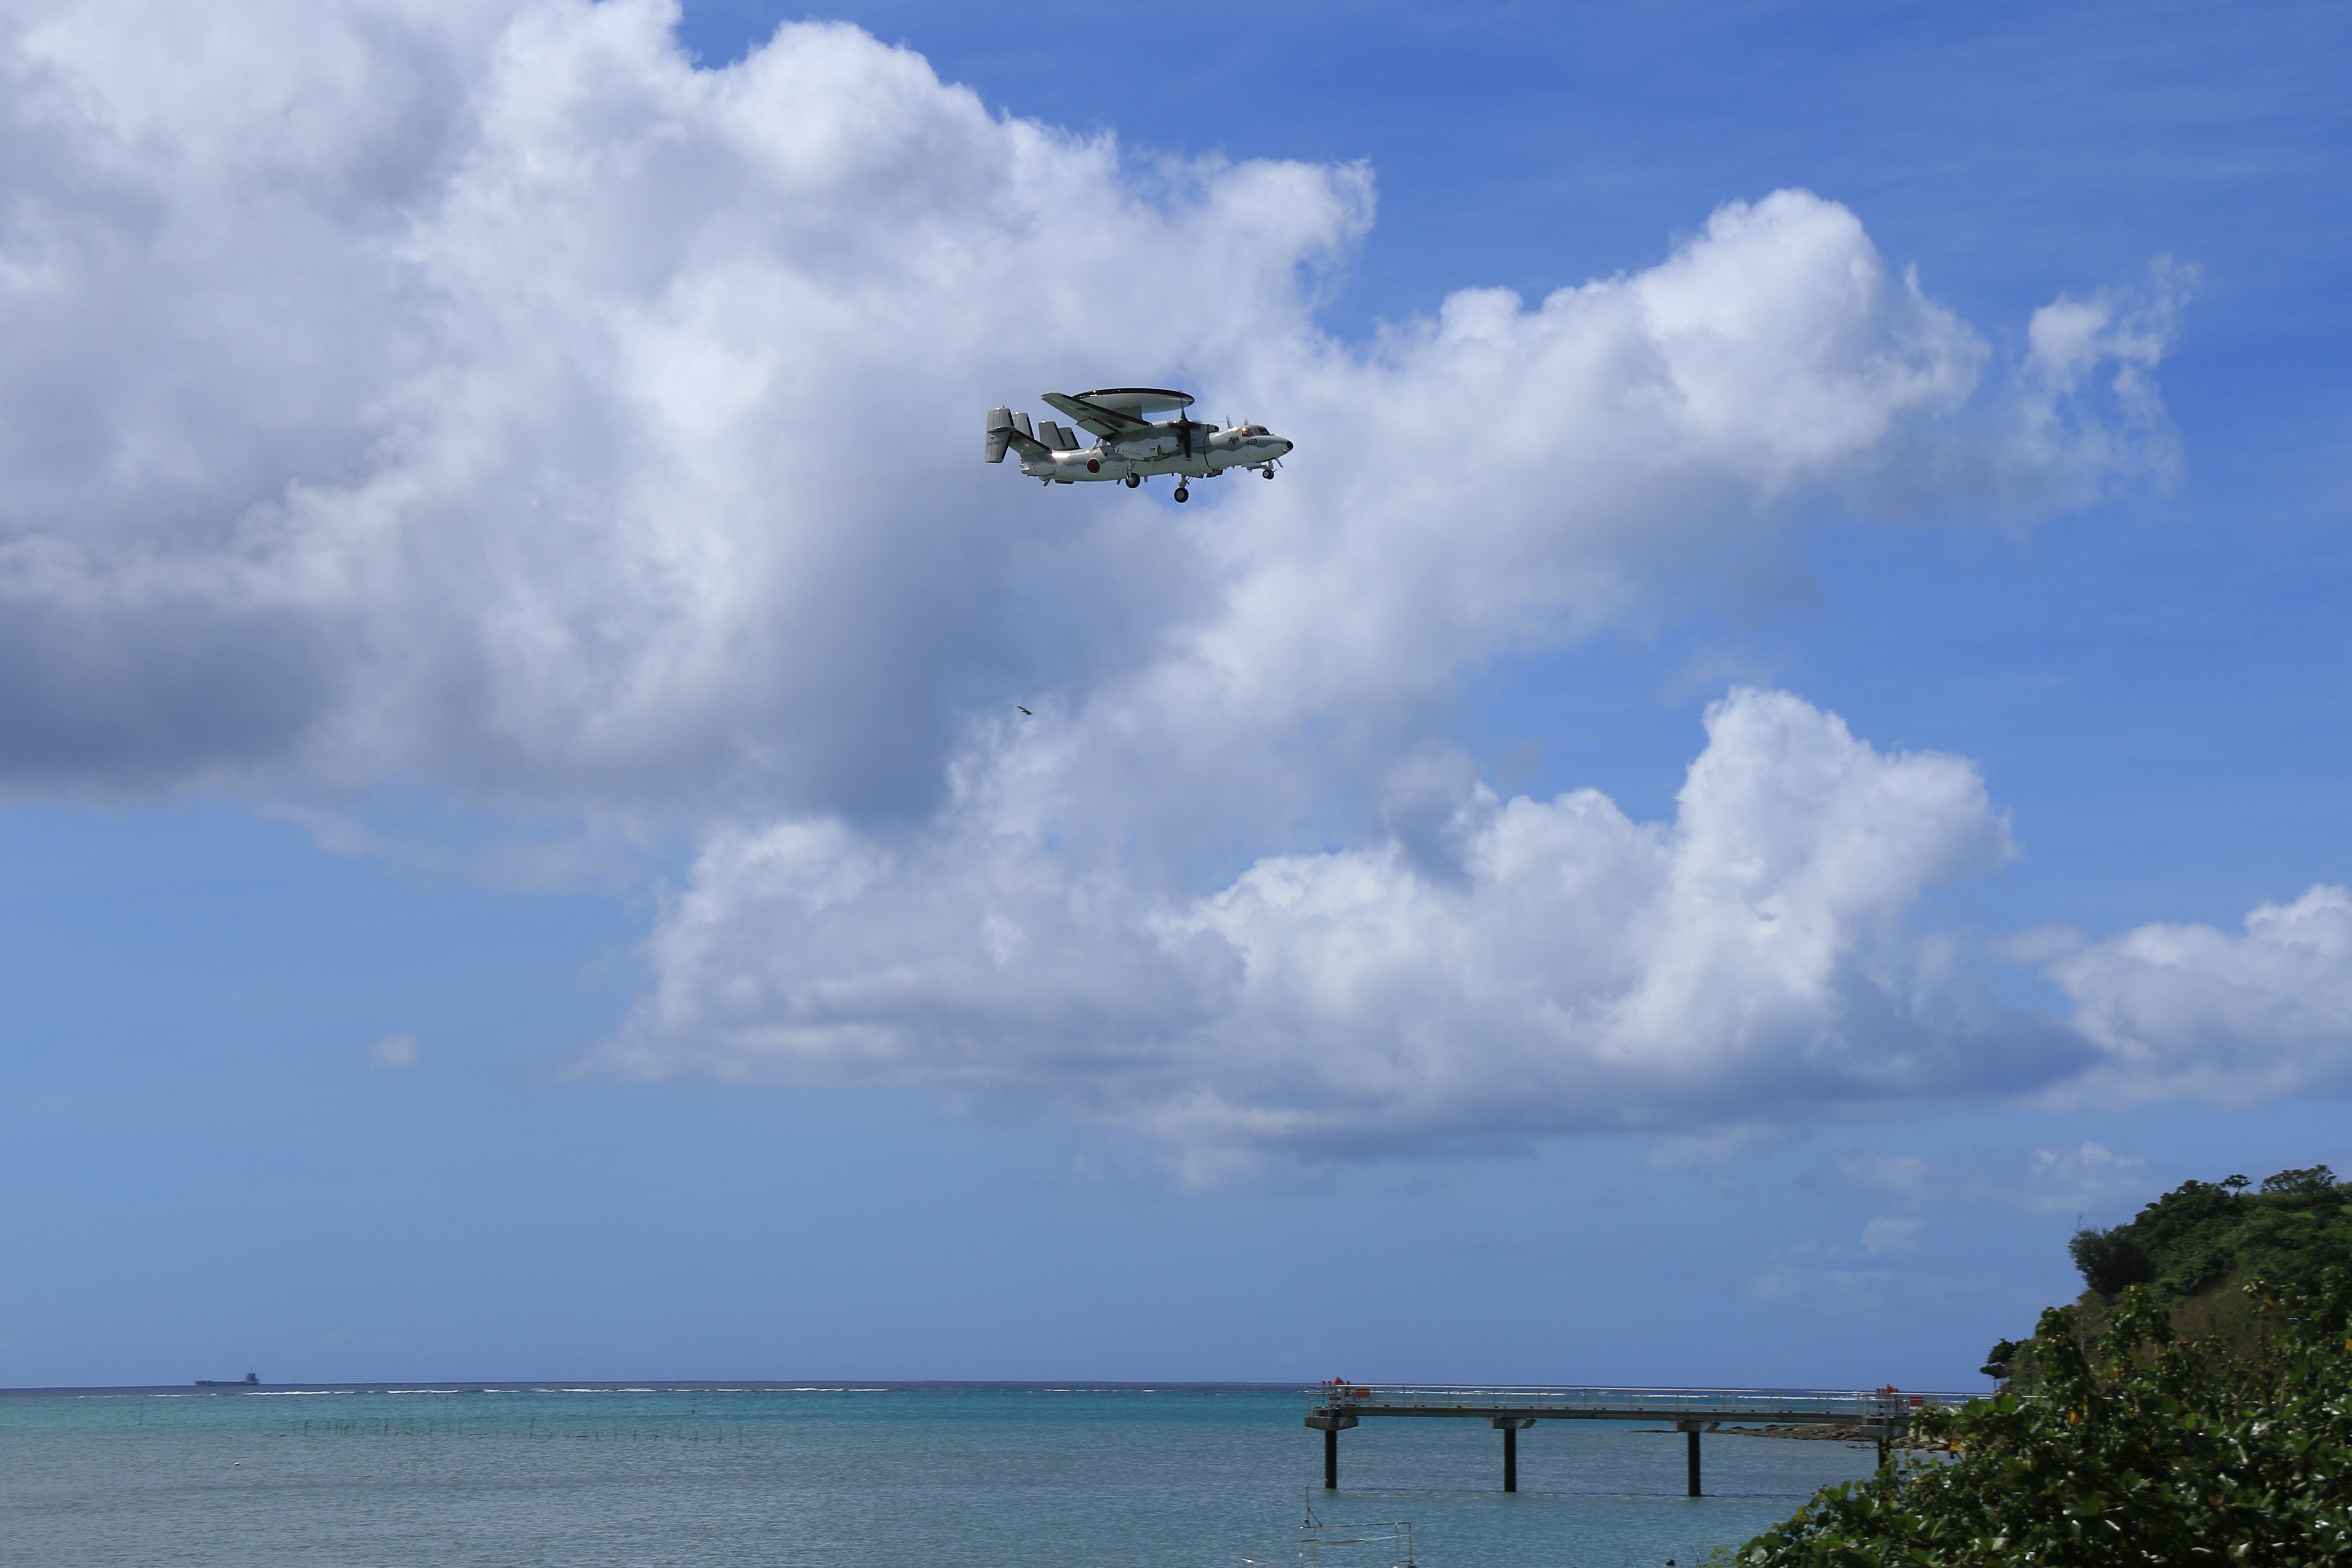E2: (982, 387, 1293, 504)
